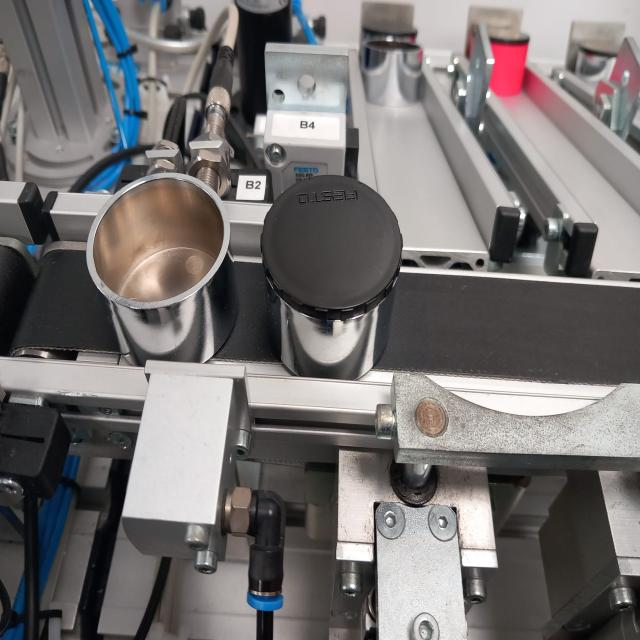NoLid: (65, 172, 246, 364)
Workpiece: (254, 172, 416, 386)
